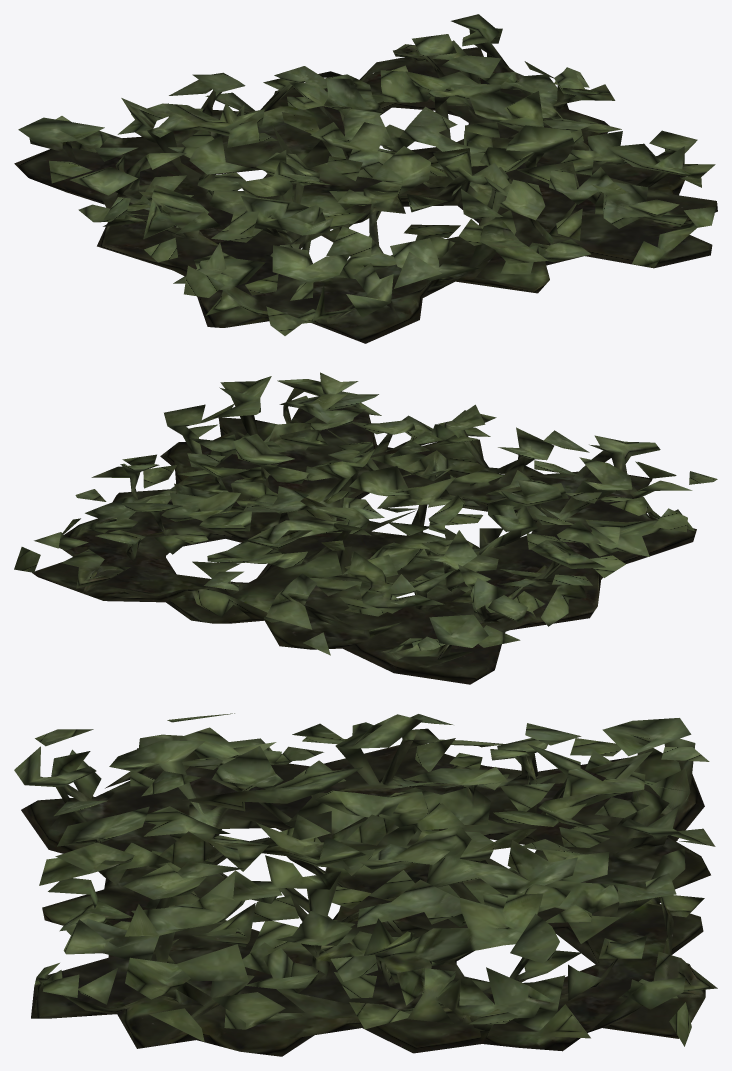
The model's file is clover.glb.
The picture shows the model from 3 angles, top to bottom: view 1: azimuth 30°, elevation 25°; view 2: azimuth 150°, elevation 25°; view 3: azimuth 270°, elevation 25°; orthographic projection. The views are drawn at different scales.
Visible parts, largest first — view 1: tripo_node_ca792996-091b-4394-846e-f5dab7c4333c; view 2: tripo_node_ca792996-091b-4394-846e-f5dab7c4333c; view 3: tripo_node_ca792996-091b-4394-846e-f5dab7c4333c.
Boxes of the visible parts, <box> form: tripo_node_ca792996-091b-4394-846e-f5dab7c4333c: <box>14,14,717,343</box>; tripo_node_ca792996-091b-4394-846e-f5dab7c4333c: <box>14,372,717,684</box>; tripo_node_ca792996-091b-4394-846e-f5dab7c4333c: <box>14,713,717,1056</box>.
Bounding box in the file's own units: 1 × 0.1047 × 0.9324.
1 material, 1 textured.
